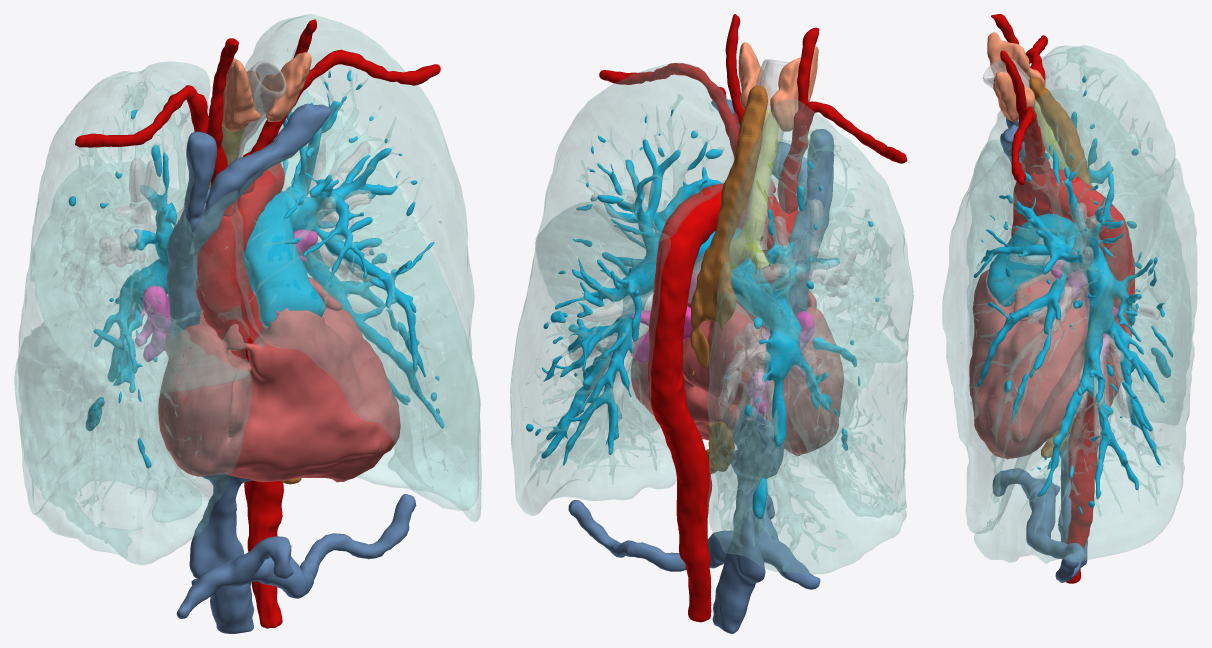
The model's file is airway-y-stent.glb.
3 views of the same model, side by side, from view 1: azimuth 30°, elevation 25°; view 2: azimuth 150°, elevation 25°; view 3: azimuth 270°, elevation 25° (orthographic). The views are drawn at different scales.
Visible parts, largest first — view 1: Left Upper Lobe, Right Upper Lobe, Right Middle Lobe, Heart, Pulmonary artery, Right Lower lobe, Veins, Left Lower Lobe, Aorta, Airway, Arteries, Thyroid (+1 smaller); view 2: Left Lower Lobe, Right Lower lobe, Right Upper Lobe, Left Upper Lobe, Pulmonary artery, Veins, Aorta, Right Middle Lobe, Airway, Heart, Esophagus, Arteries (+3 smaller); view 3: Left Upper Lobe, Left Lower Lobe, Pulmonary artery, Right Upper Lobe, Heart, Right Lower lobe, Aorta, Airway, Veins, Arteries, Esophagus, Thyroid (+2 smaller).
Part boxes in pixels (<box>): Left Upper Lobe: <box>231,14,480,510</box>; Right Upper Lobe: <box>30,61,265,397</box>; Right Middle Lobe: <box>14,292,251,564</box>; Heart: <box>158,277,400,482</box>; Pulmonary artery: <box>68,70,444,468</box>; Right Lower lobe: <box>18,162,201,557</box>; Veins: <box>166,103,416,633</box>; Left Lower Lobe: <box>242,93,481,521</box>; Aorta: <box>196,151,284,628</box>; Airway: <box>99,60,374,348</box>; Arteries: <box>75,19,440,216</box>; Thyroid: <box>210,52,311,131</box>; Left Lower Lobe: <box>510,201,676,515</box>; Right Lower lobe: <box>707,262,906,574</box>; Right Upper Lobe: <box>722,99,913,362</box>; Left Upper Lobe: <box>536,62,790,437</box>; Pulmonary artery: <box>526,109,878,519</box>; Veins: <box>568,99,834,633</box>; Aorta: <box>648,183,798,622</box>; Right Middle Lobe: <box>787,317,907,517</box>; Airway: <box>568,59,856,422</box>; Heart: <box>631,291,843,455</box>; Esophagus: <box>690,85,767,473</box>; Arteries: <box>599,14,907,213</box>; Left Upper Lobe: <box>942,88,1161,533</box>; Left Lower Lobe: <box>974,196,1194,563</box>; Pulmonary artery: <box>974,76,1172,514</box>; Right Upper Lobe: <box>967,45,1175,284</box>; Heart: <box>969,269,1088,459</box>; Right Lower lobe: <box>1112,158,1197,424</box>; Aorta: <box>1011,168,1134,583</box>; Airway: <box>983,59,1168,442</box>; Veins: <box>992,118,1087,582</box>; Arteries: <box>991,14,1050,185</box>; Esophagus: <box>1029,77,1092,458</box>; Thyroid: <box>987,32,1045,121</box>.
Size of the model in its own units: 0.2286 by 0.3368 by 0.1463.
